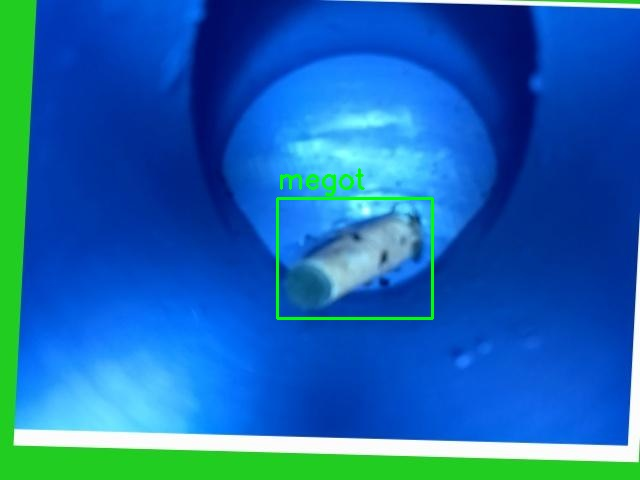megot: (277, 198, 432, 318)
